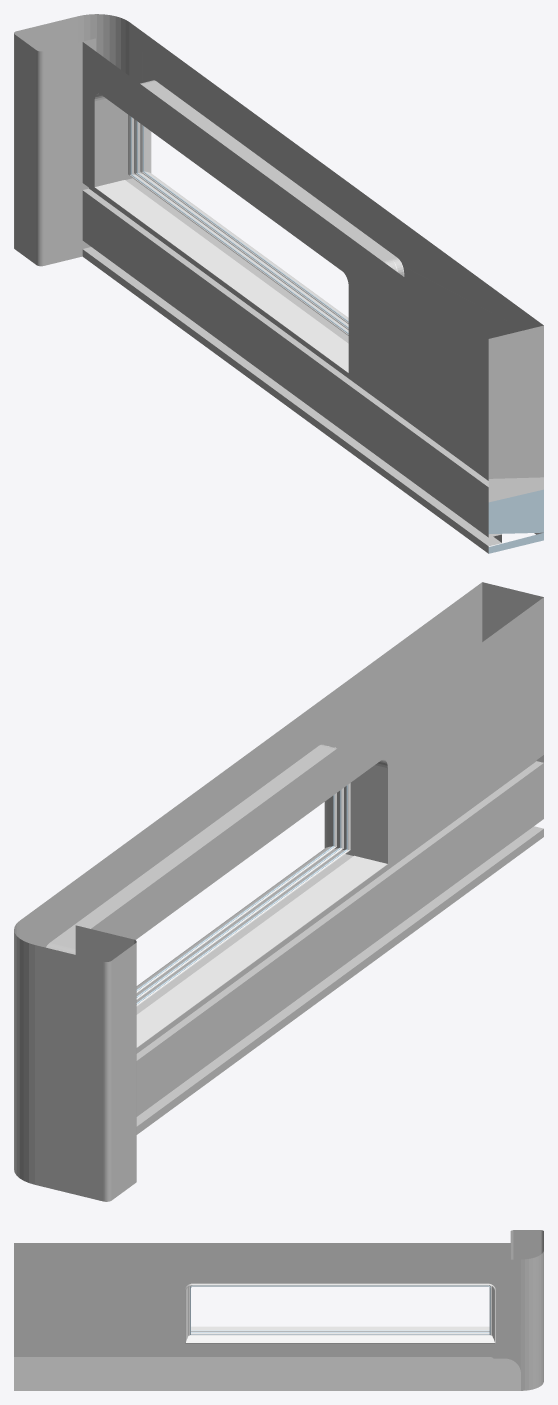
File: StandardApartmentDivider_mesh.fbx
The picture shows the model from 3 angles, top to bottom: view 1: azimuth 30°, elevation 25°; view 2: azimuth 150°, elevation 25°; view 3: azimuth 270°, elevation 25°; orthographic projection. The views are drawn at different scales.
Parts seen in each view (by area): view 1: StandardApartmentDivider_mesh; view 2: StandardApartmentDivider_mesh; view 3: StandardApartmentDivider_mesh.
Part boxes in pixels (x1=…): StandardApartmentDivider_mesh: x1=14, y1=14, x2=543, y2=553; StandardApartmentDivider_mesh: x1=14, y1=582, x2=543, y2=1201; StandardApartmentDivider_mesh: x1=14, y1=1230, x2=543, y2=1390.
Bounding box in the file's own units: 79.51 × 164 × 599.
